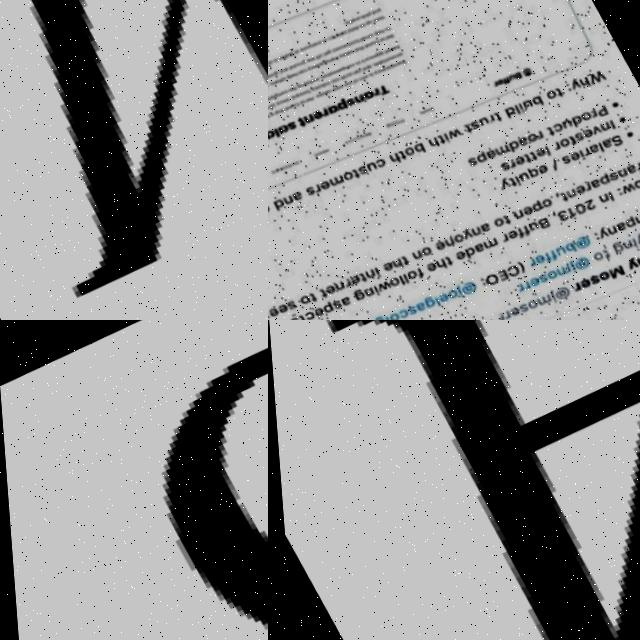0: (569, 197, 582, 210)
1: (562, 201, 573, 213)
2: (578, 193, 592, 206)
3: (549, 203, 565, 218)
A: (296, 320, 640, 640)
M: (0, 0, 268, 313)
S: (31, 320, 268, 640)
